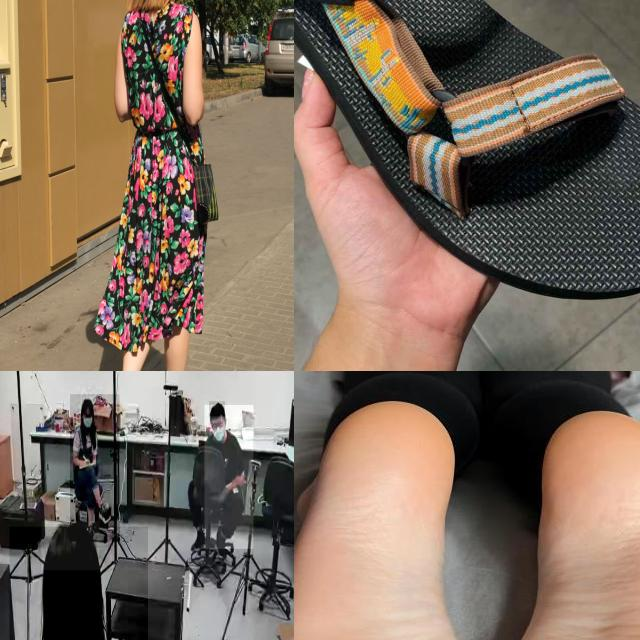Barefoots: (294, 392, 493, 640), (497, 412, 640, 640)
Sandals: (294, 0, 640, 320)
face_mask: (81, 409, 97, 438), (212, 419, 226, 441)
hand_noglove: (80, 456, 90, 468)
head_nohelmet: (42, 521, 100, 571), (209, 402, 225, 418), (80, 397, 94, 409)
person: (9, 526, 148, 640), (70, 394, 120, 542), (204, 405, 254, 550)
shoes: (189, 526, 209, 553), (213, 526, 227, 555), (98, 502, 111, 526)
